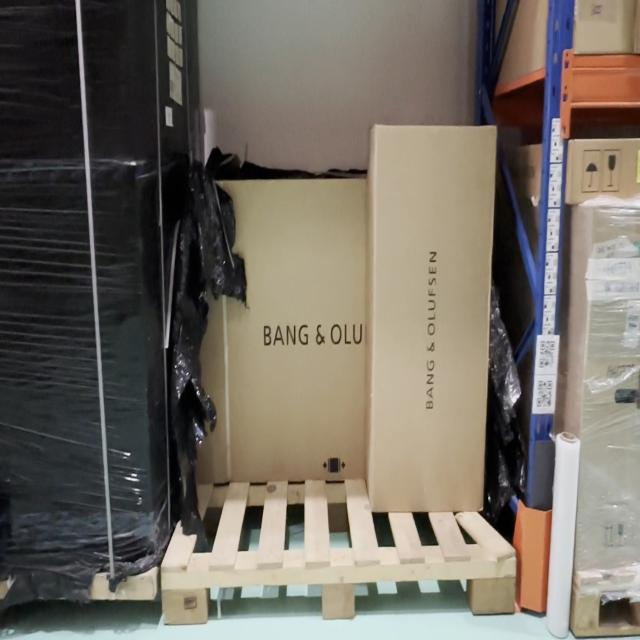box: (370, 123, 501, 513)
